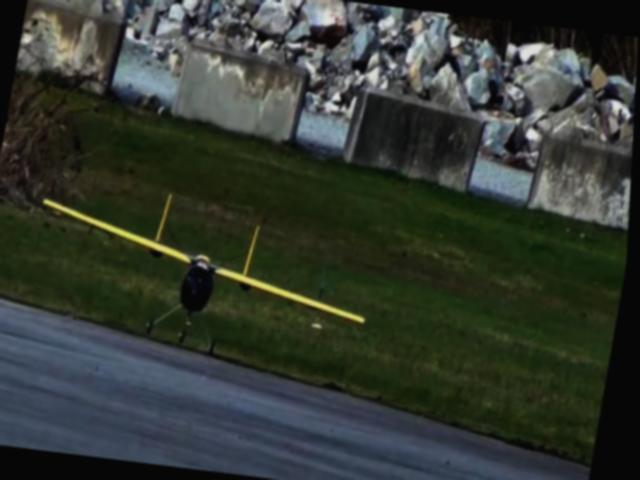iha: (15, 173, 382, 373)
